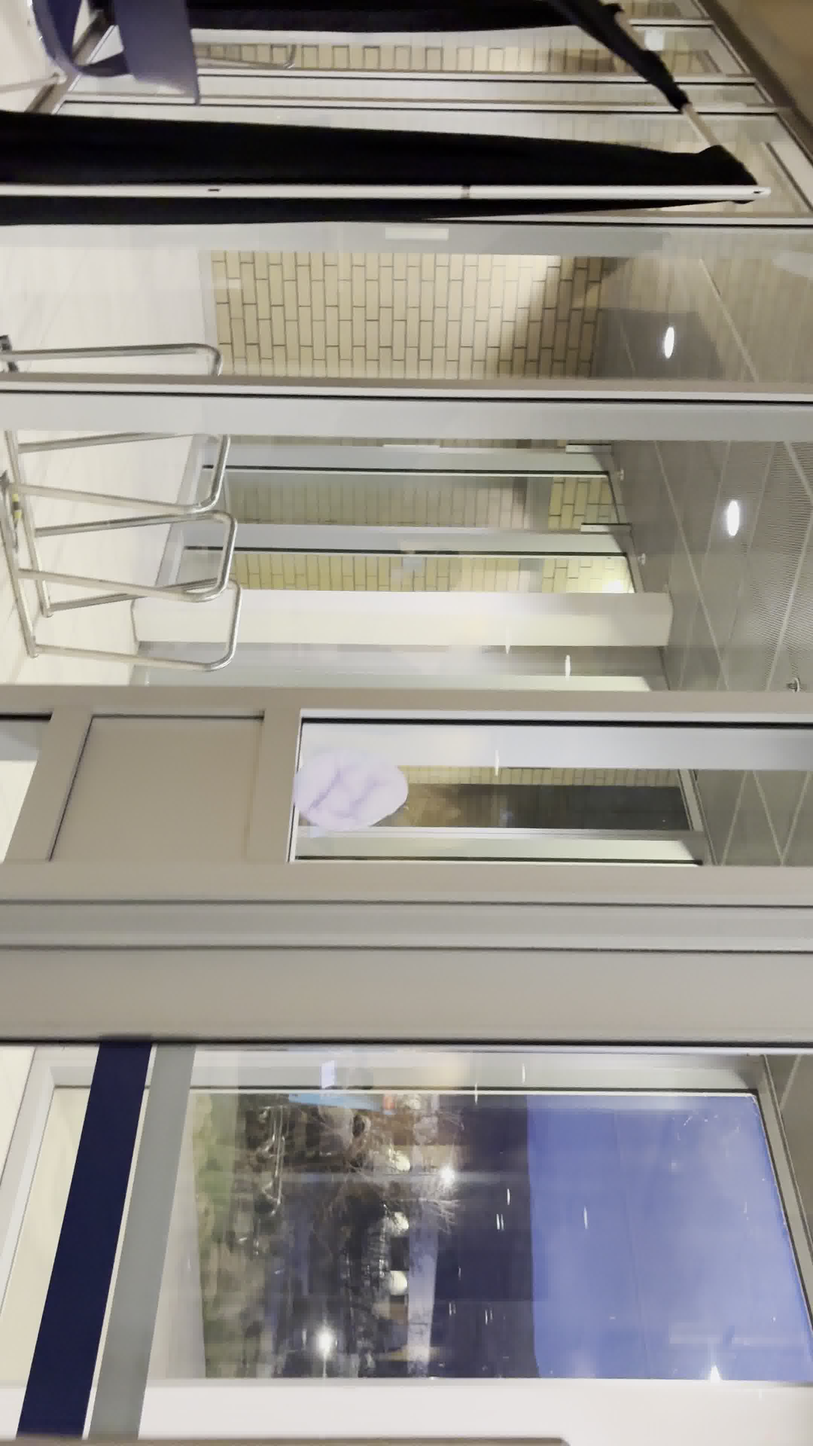Target: (290, 745, 410, 833)
